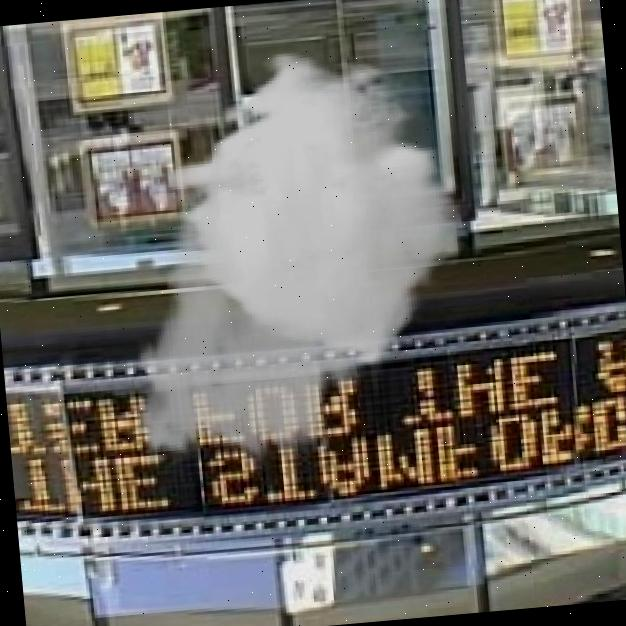smoke: (90, 36, 482, 483)
